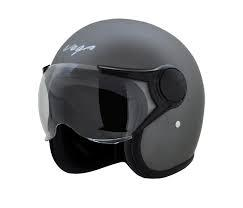helmet: (3, 0, 243, 208)
